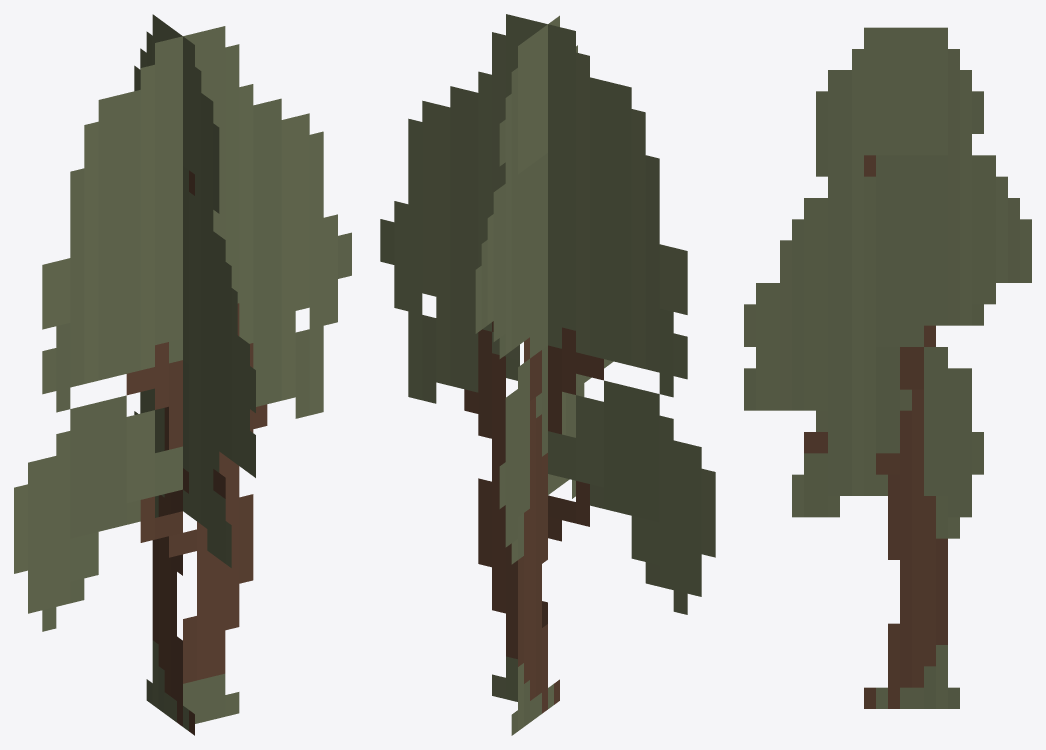
Rendered from temperate-broadleaf-v1.lod2.glb.
The picture shows the model from 3 angles, left to right: view 1: azimuth 30°, elevation 25°; view 2: azimuth 150°, elevation 25°; view 3: azimuth 270°, elevation 25°; orthographic projection.
Parts seen in each view (by area): view 1: temperate-broadleaf-impostor; view 2: temperate-broadleaf-impostor; view 3: temperate-broadleaf-impostor.
Part boxes in pixels (x1,y1,x2,y2): temperate-broadleaf-impostor: [14, 14, 351, 735]; temperate-broadleaf-impostor: [380, 14, 715, 735]; temperate-broadleaf-impostor: [744, 27, 1031, 708].
Size of the model in its own units: 5.63 by 11 by 4.21.
